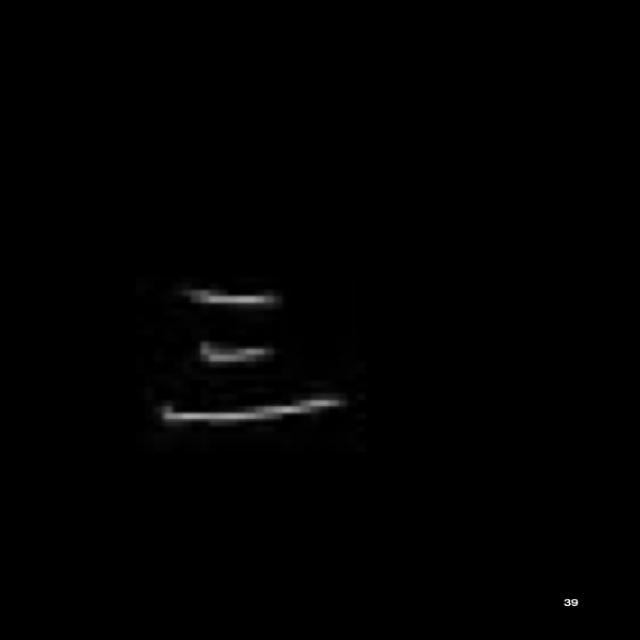3 -three-: (137, 279, 364, 443)
